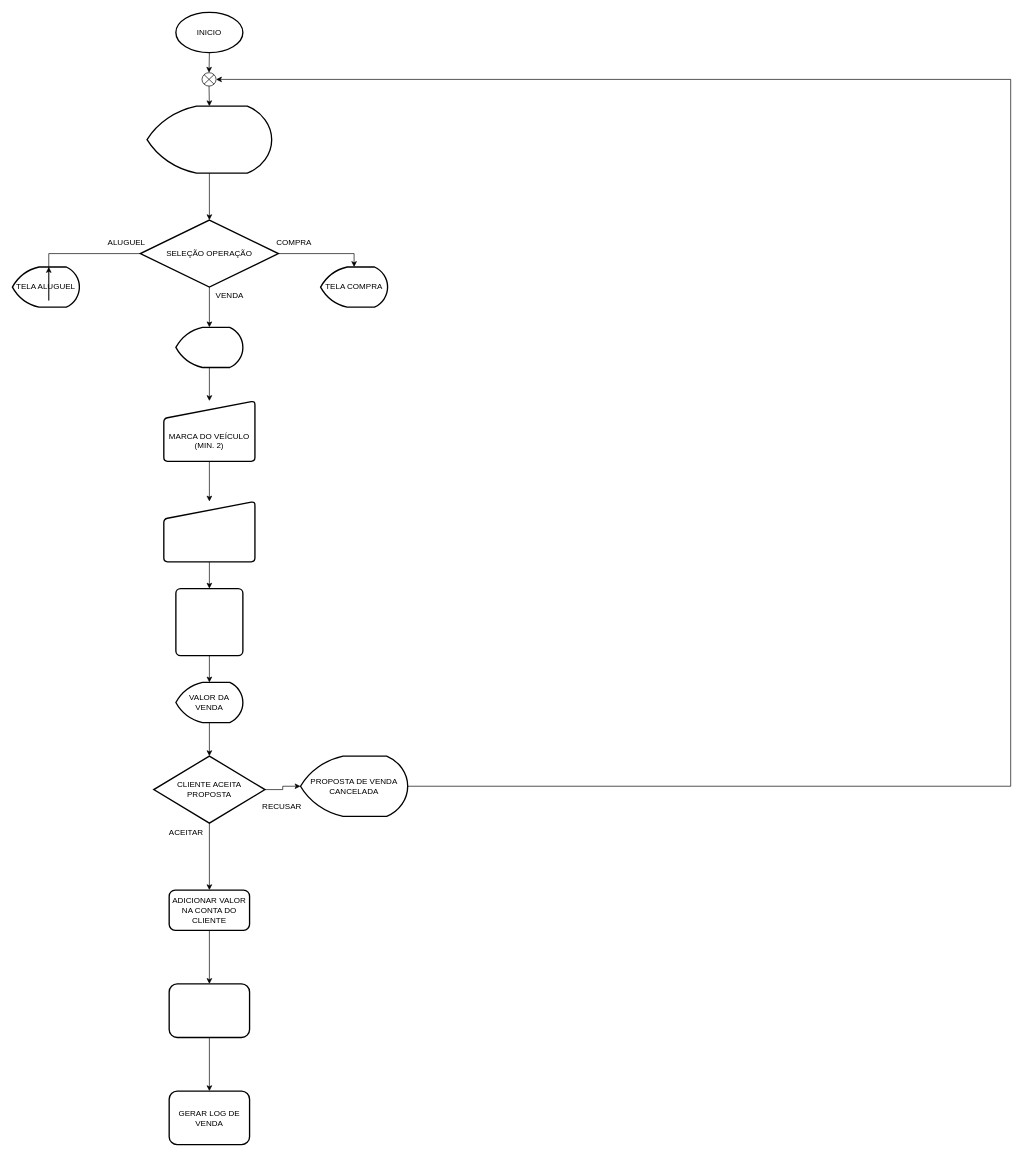
This 1028x1156 diagram has some shape labels left out. Each missing label, with the box of its shape:
ADICIONAR VEÍCULO NO ESTOQUE DA EMPRESA: (168, 983, 250, 1038)
CALCULAR VALOR DO VEÍCULO SEGUINDO TABELA FIPE: (175, 588, 243, 656)
MODELO (MIN. 5 OPÇÕES): (163, 500, 255, 562)
MOSTRAR OPÇÕES: 1) VENDA 2) ALUGUEL 3) COMPRA: (146, 105, 272, 174)
TELA VENDA: (175, 326, 243, 368)
